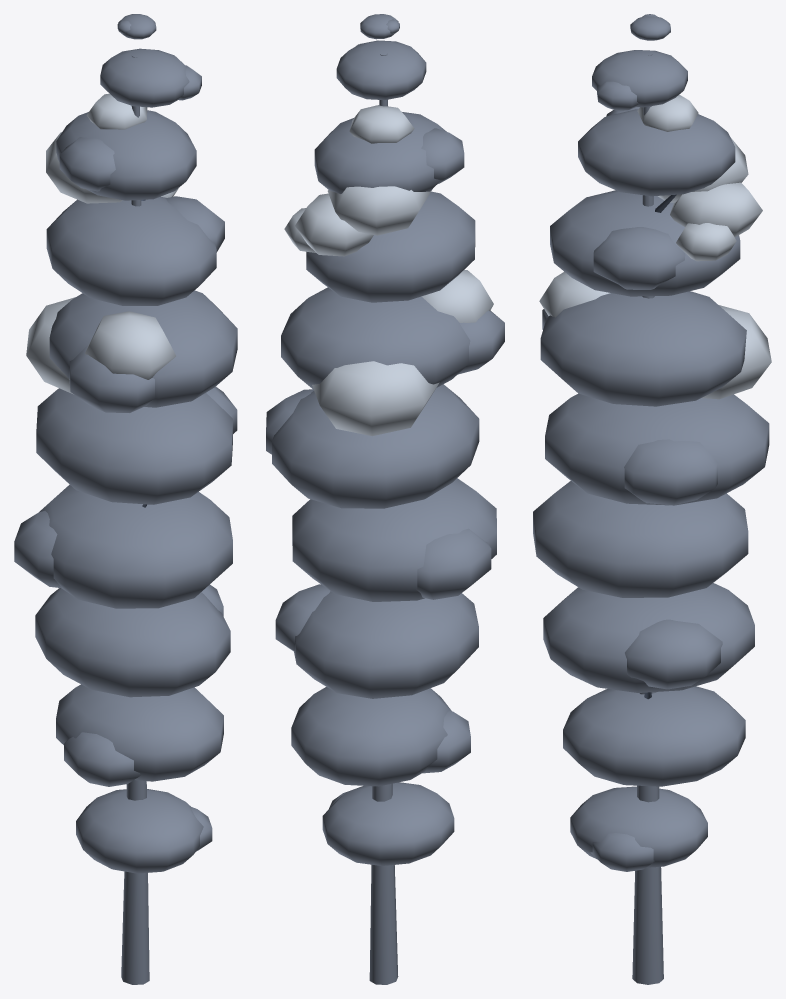
The model's file is 柱形乔木.glb.
3 views of the same model, side by side, from view 1: azimuth 30°, elevation 25°; view 2: azimuth 150°, elevation 25°; view 3: azimuth 270°, elevation 25° (orthographic).
Visible parts, largest first — view 1: garden-tree-columnar-leaf, garden-tree-columnar-light, garden-tree-columnar-trunk; view 2: garden-tree-columnar-leaf, garden-tree-columnar-light, garden-tree-columnar-trunk; view 3: garden-tree-columnar-leaf, garden-tree-columnar-light, garden-tree-columnar-trunk.
Part boxes in pixels (box(x1,y1,x2,y2)): garden-tree-columnar-leaf: box(14, 14, 237, 873); garden-tree-columnar-light: box(26, 93, 178, 394); garden-tree-columnar-trunk: box(121, 56, 149, 984); garden-tree-columnar-leaf: box(266, 14, 504, 865); garden-tree-columnar-light: box(284, 105, 493, 436); garden-tree-columnar-trunk: box(369, 54, 398, 984); garden-tree-columnar-leaf: box(533, 14, 769, 871); garden-tree-columnar-light: box(539, 94, 771, 399); garden-tree-columnar-trunk: box(632, 54, 663, 984).
Bounding box in the file's own units: 0.72 × 3.2 × 0.72.
